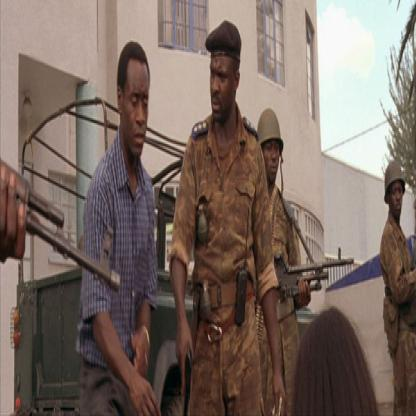Guns: (0, 153, 126, 323), (271, 238, 356, 317)
